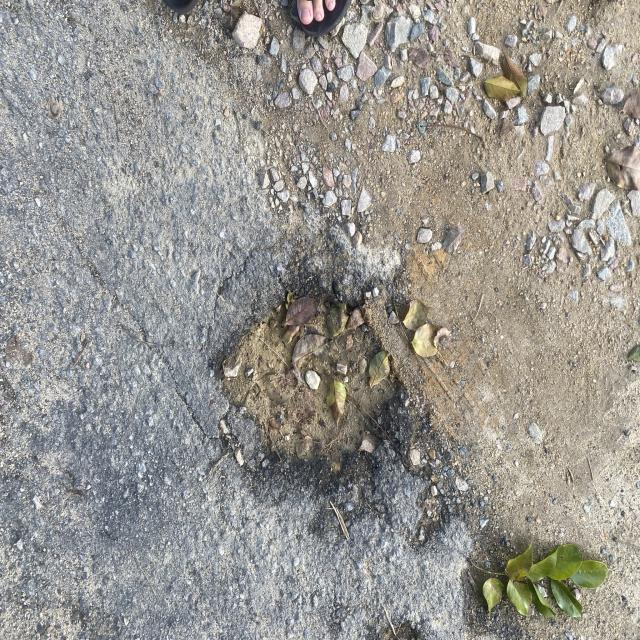Pothole: (175, 235, 470, 545)
